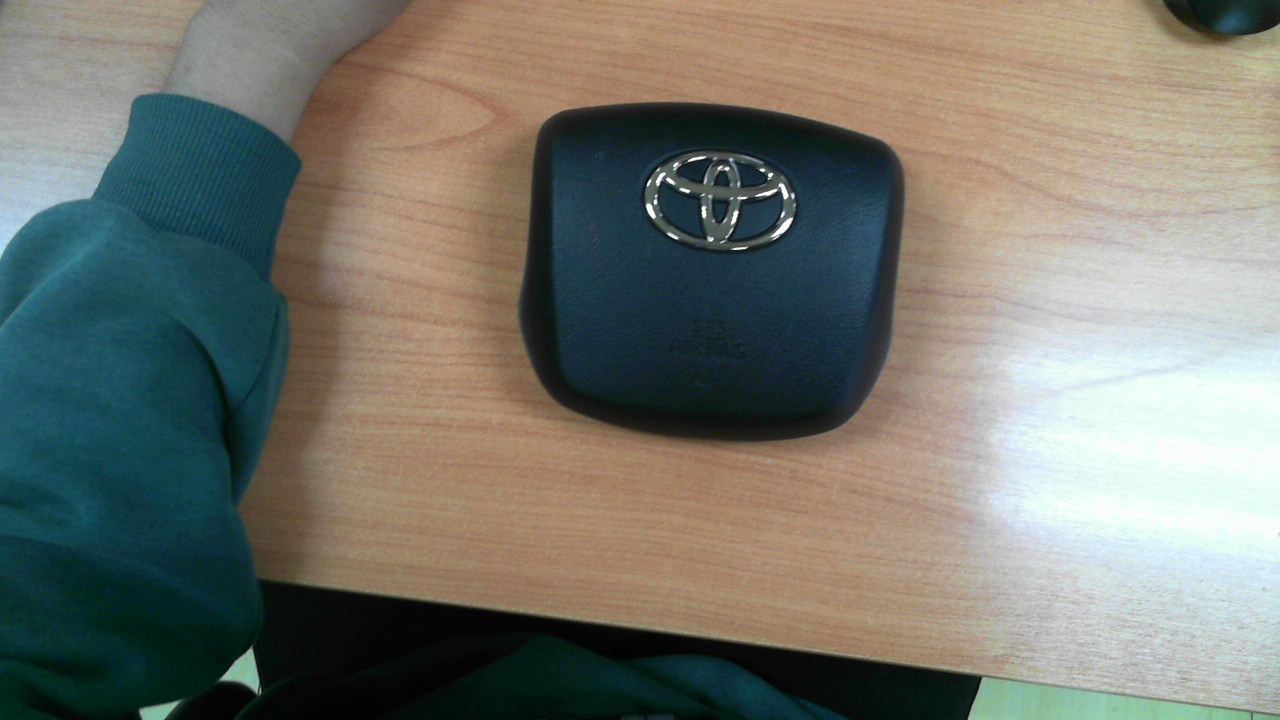Airbag: (518, 102, 906, 444)
Toyota: (644, 151, 796, 251)
